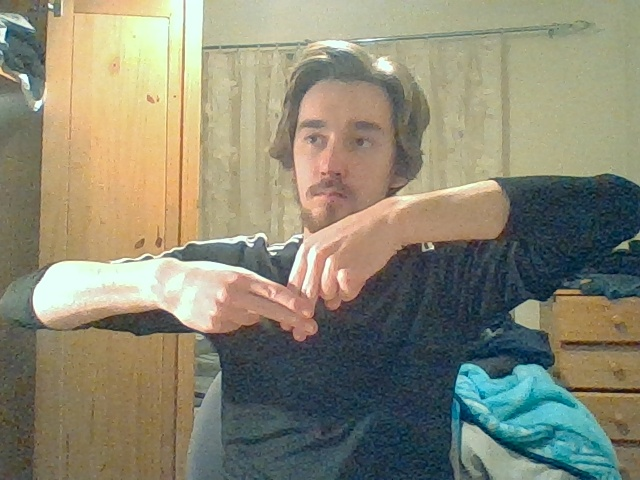father: (255, 240, 344, 341)
